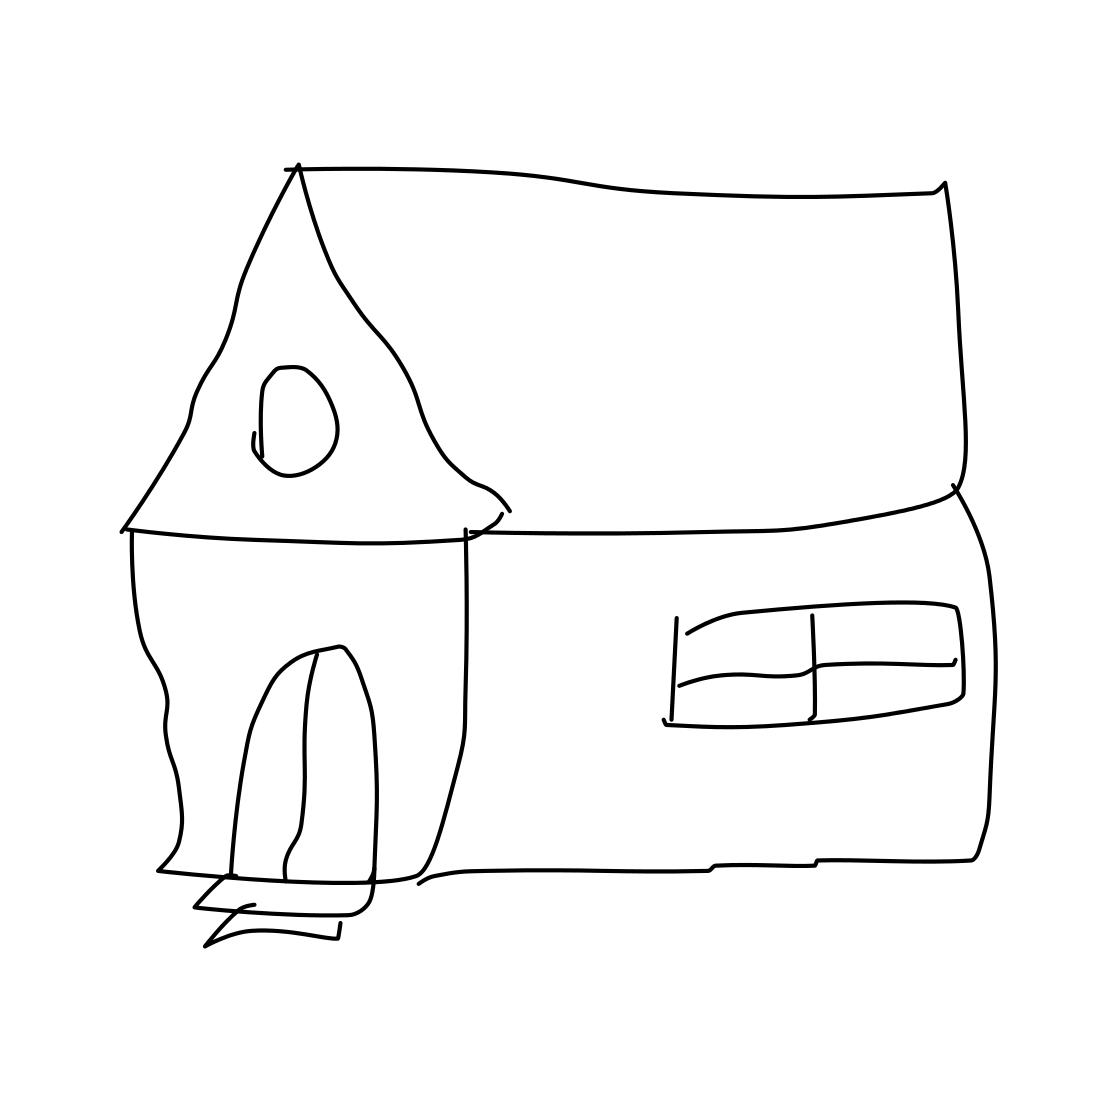House: (83, 124, 1049, 926)
